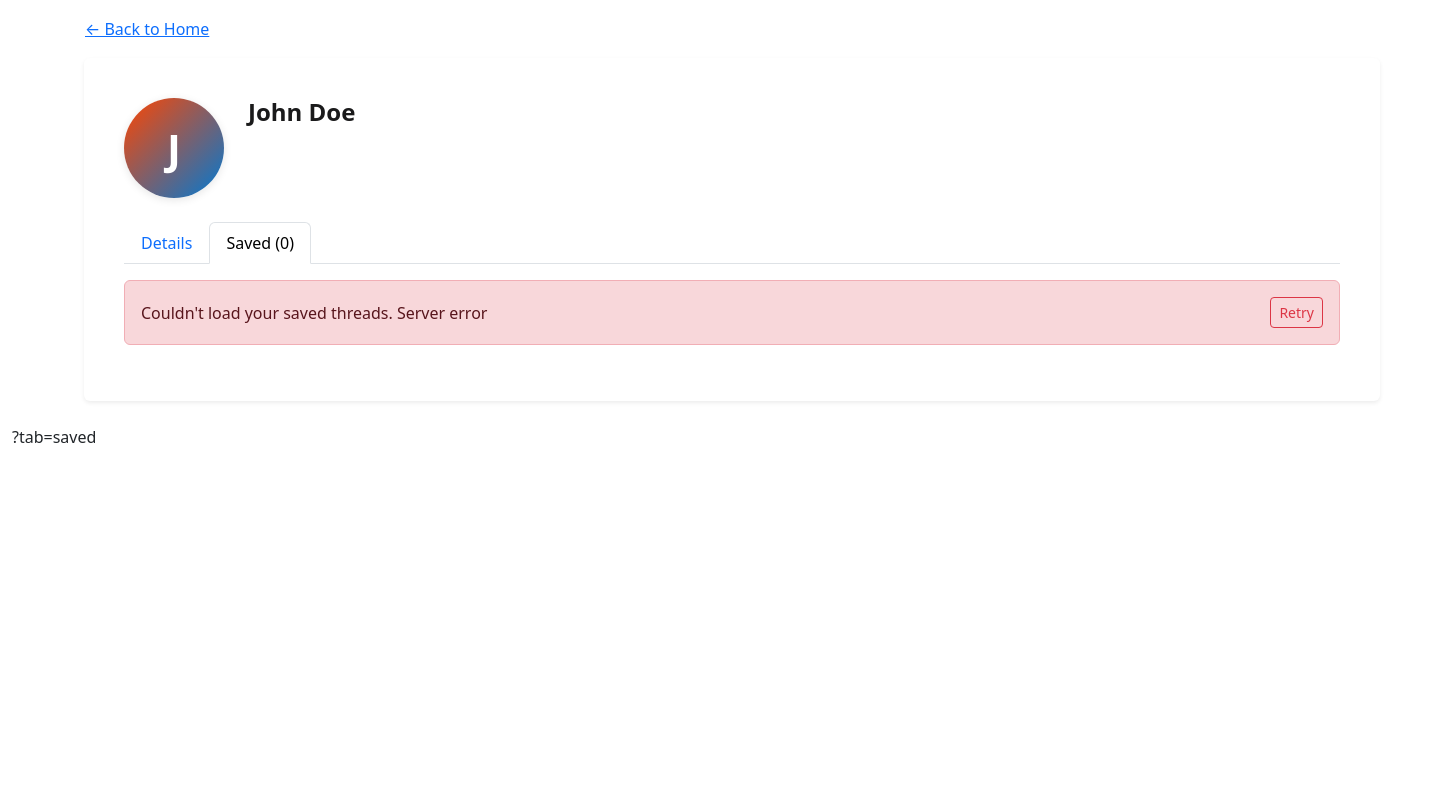
Test case: Profile Saved tab › shows an error with a Retry button that loads the list again
Check: the text "Couldn't load your saved threads. Server error" is shown, box 141,300 -> 487,324
What coordinates should you click on to do the following:
click the button "Retry"
I would click on:
 (1297, 312)
Its box is 1270,297 -> 1323,328.
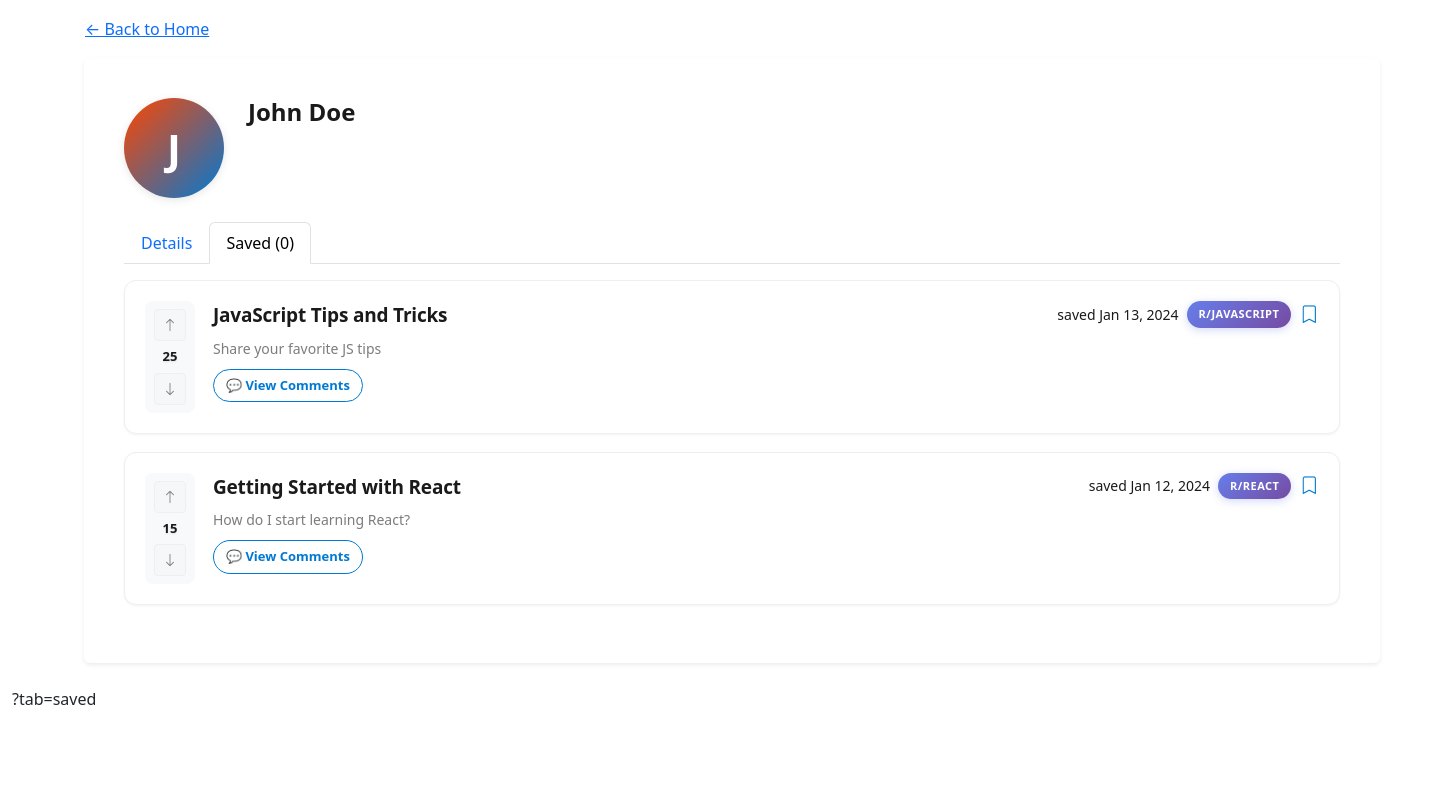
Check: the heading "JavaScript Tips and Tricks" is shown, box 213,301 -> 447,330
